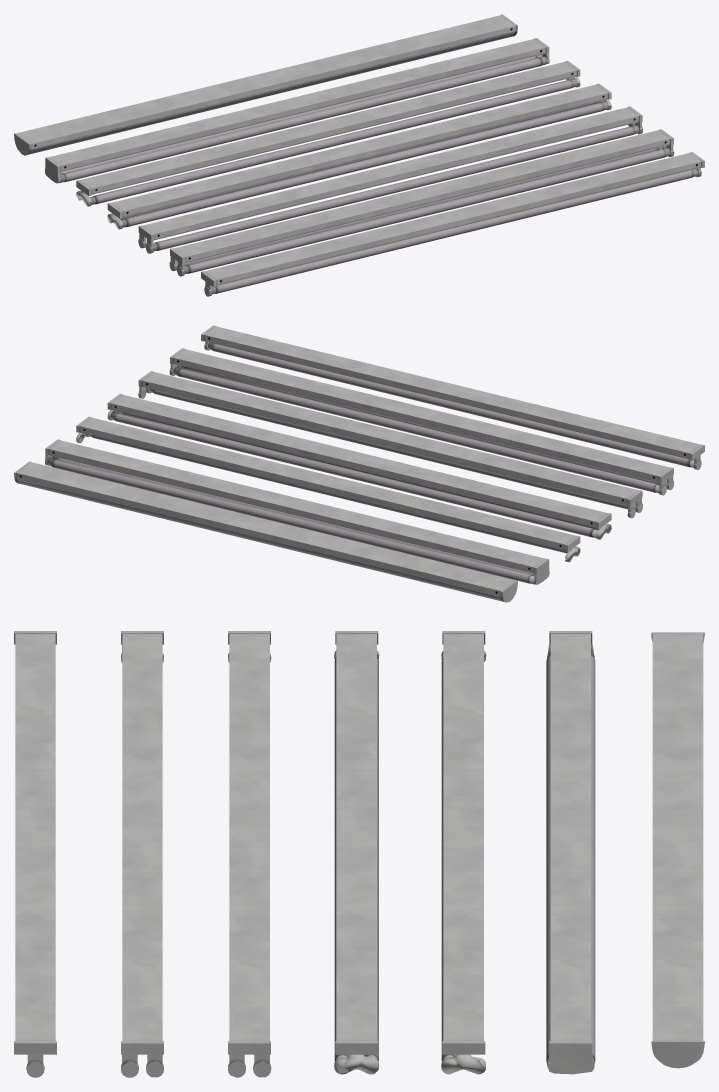
Rendered from mounted_fluorescent_lights.glb.
3 views of the same model, one above another, from view 1: azimuth 30°, elevation 25°; view 2: azimuth 150°, elevation 25°; view 3: azimuth 270°, elevation 25° (orthographic). The views are drawn at different scales.
Parts seen in each view (by area): view 1: mounted_fluorescent_lights_a; view 2: mounted_fluorescent_lights_a; view 3: mounted_fluorescent_lights_a.
Part boxes in pixels (bbox=[...]): mounted_fluorescent_lights_a: bbox=[14, 14, 704, 296]; mounted_fluorescent_lights_a: bbox=[14, 325, 704, 602]; mounted_fluorescent_lights_a: bbox=[14, 631, 704, 1077].
Bounding box in the file's own units: 0.9122 × 0.0353 × 0.6453.
Materials: 2 (2 with a texture image).
